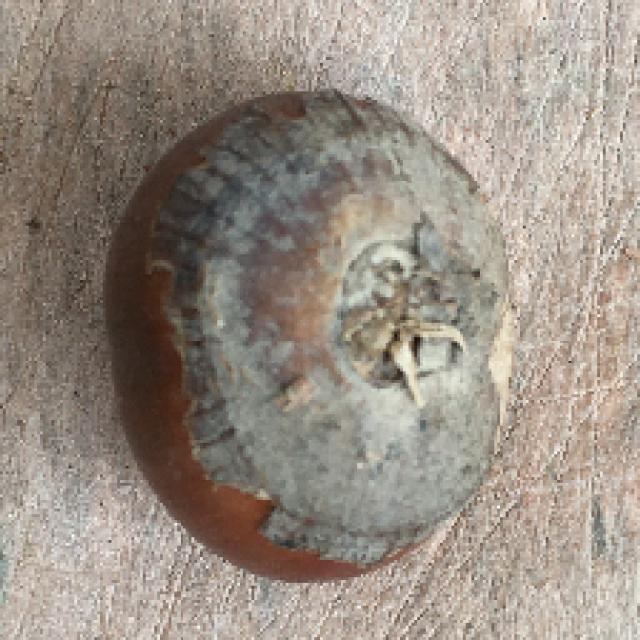damagedHazelnut: (88, 80, 509, 584)
